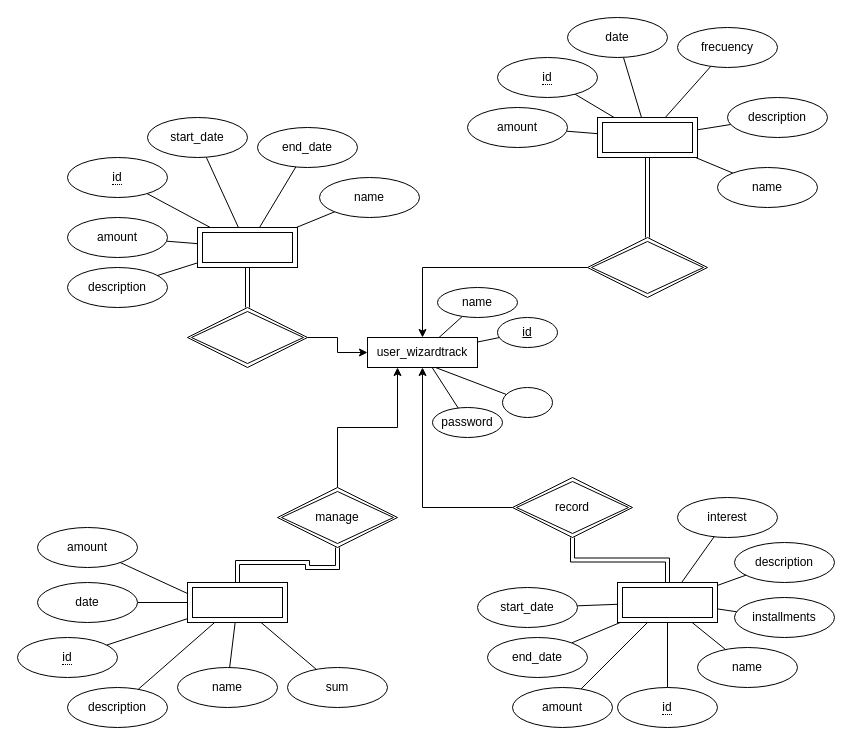
Some shapes in this 852 by 745 pixel diagram are drawn without their labels. Here are the shapes that lost their labels. From the top down, the box of each, then its label:
(596, 116, 698, 158): icome
(196, 226, 298, 268): save_count
(586, 236, 708, 298): have
(186, 306, 308, 368): store
(502, 386, 552, 418): email
(186, 582, 288, 622): spend
(616, 582, 718, 622): debt
